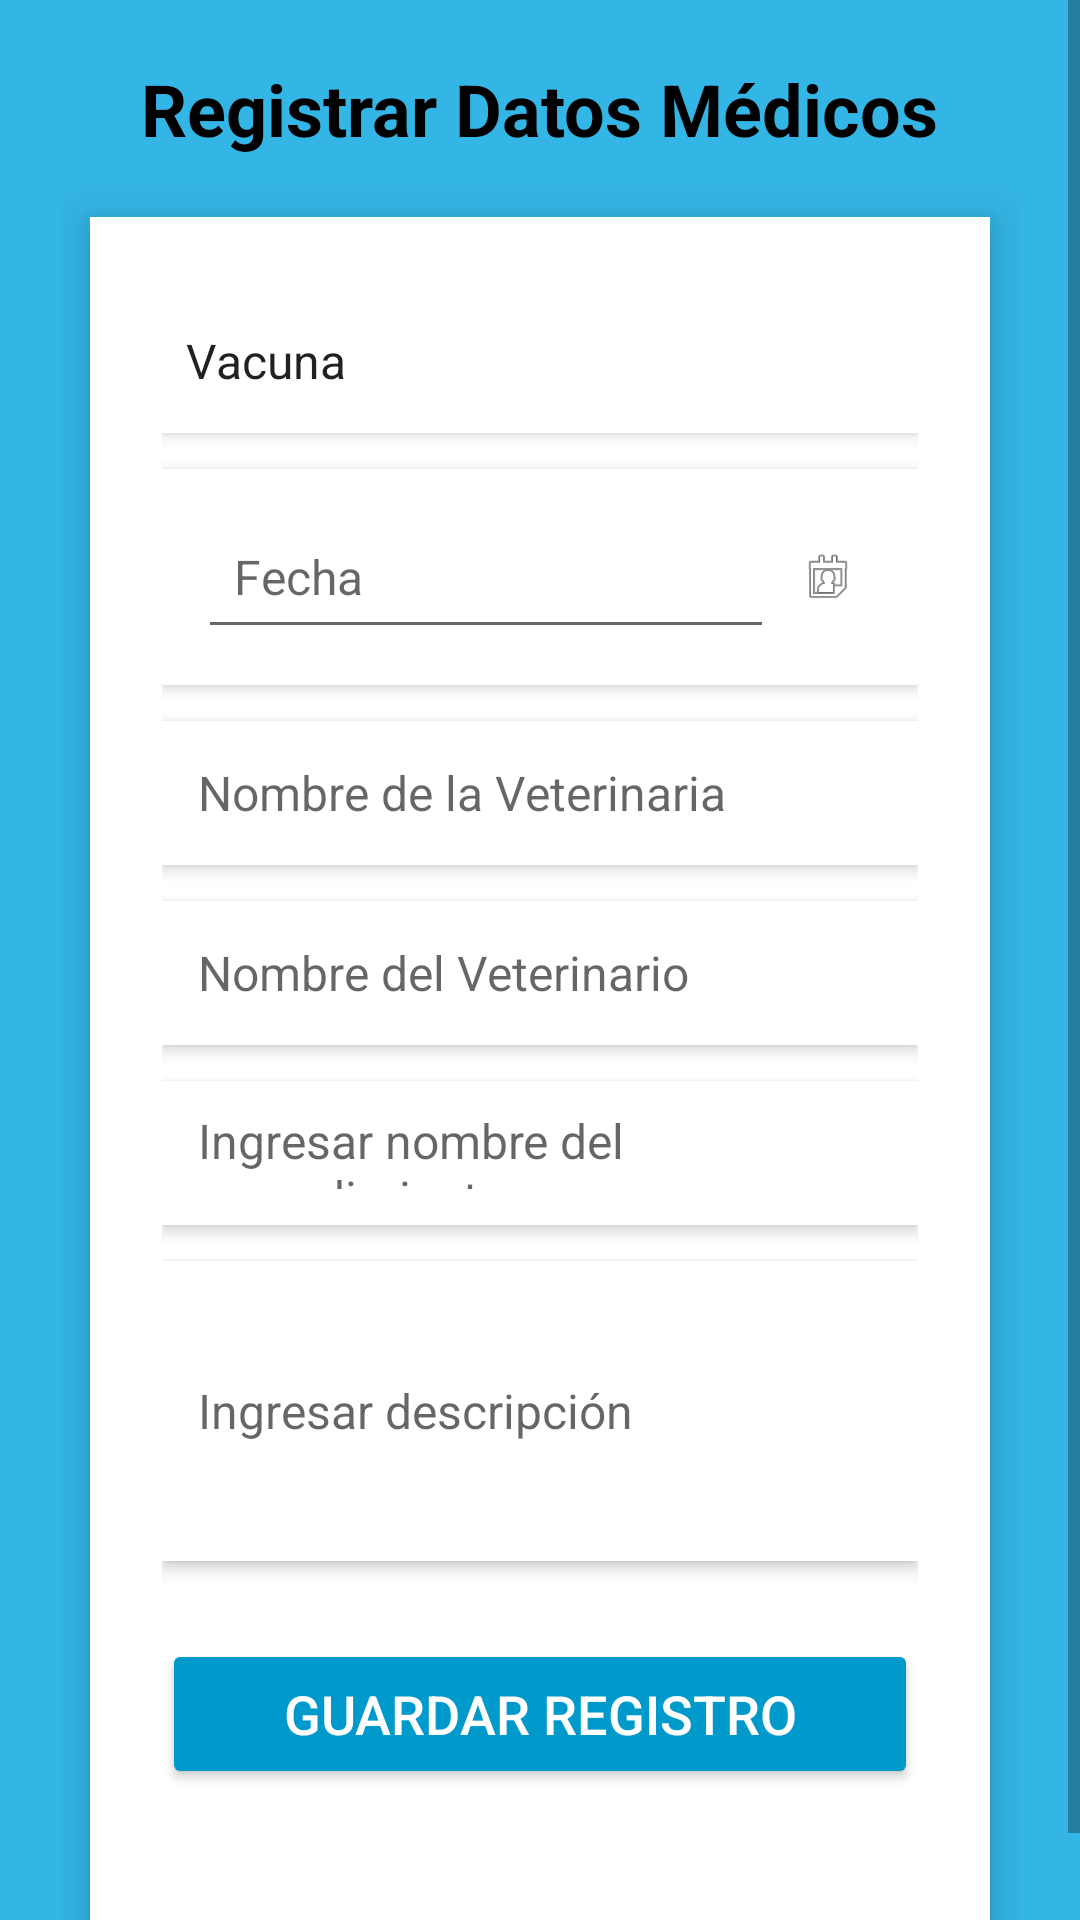

Icon bounding boxes for this 1080w x 1920h phone screenshot, format (x1, y1, x2, y2):
Ícono de calendario: (808, 554, 848, 598)
